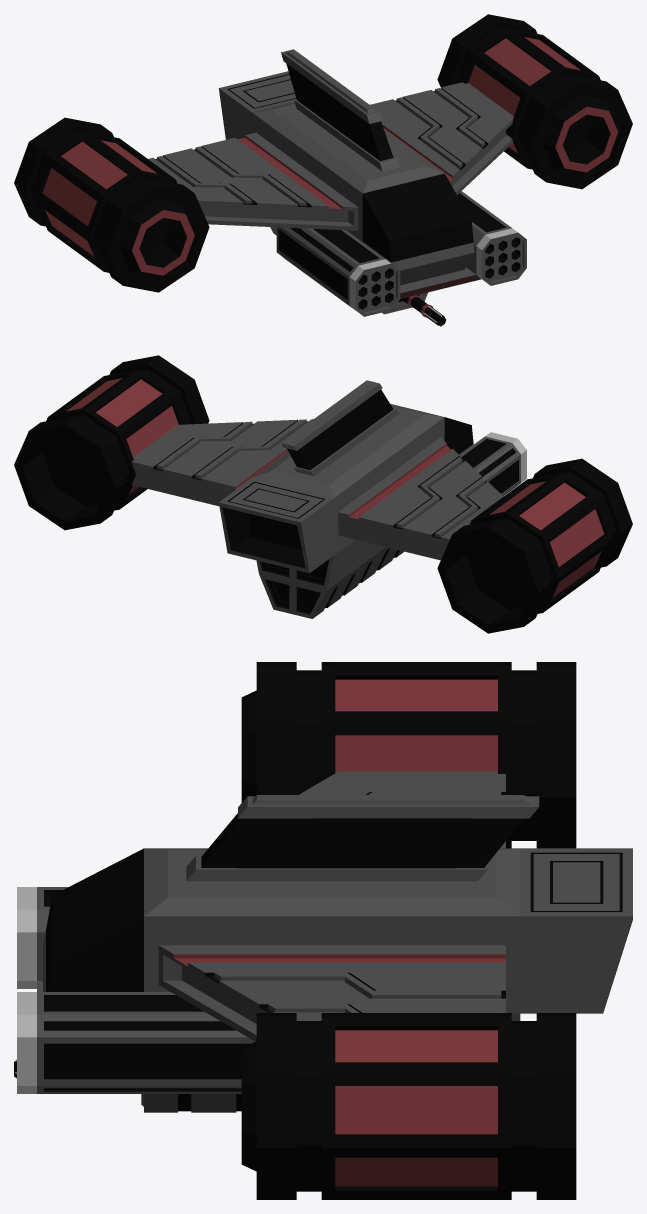
The model's file is Spaceship14_2.fbx.
3 renders of one model, top to bottom at view 1: azimuth 30°, elevation 25°; view 2: azimuth 150°, elevation 25°; view 3: azimuth 270°, elevation 25°, orthographic. The views are drawn at different scales.
Parts seen in each view (by area): view 1: Spaceship14_2; view 2: Spaceship14_2; view 3: Spaceship14_2.
Part boxes in pixels (<box>): Spaceship14_2: <box>14,14,632,326</box>; Spaceship14_2: <box>14,355,632,633</box>; Spaceship14_2: <box>14,662,632,1199</box>.
Bounding box in the file's own units: 3717 × 1192 × 2236.
